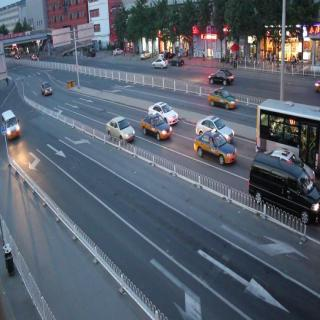BigCar: (252, 92, 320, 173)
Car: (244, 148, 320, 224), (194, 134, 239, 165), (140, 111, 173, 142), (196, 115, 235, 141), (105, 113, 136, 144), (0, 108, 22, 142), (148, 100, 178, 123), (208, 89, 239, 111), (209, 69, 236, 89), (152, 54, 169, 71), (40, 80, 53, 96), (170, 56, 184, 68), (112, 46, 124, 56), (140, 48, 150, 60), (85, 48, 95, 59)
